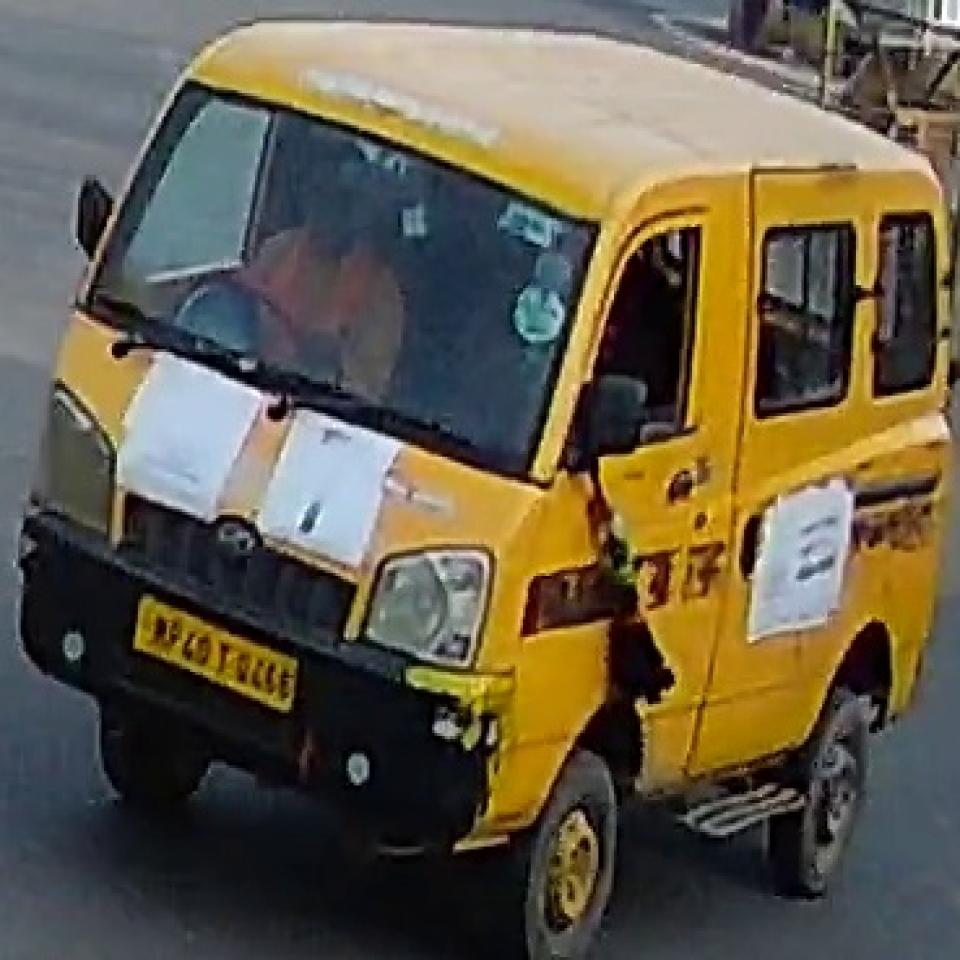head_light: (360, 538, 498, 672), (31, 382, 122, 532)
